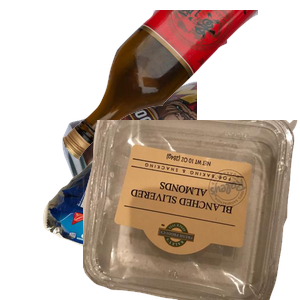glass: (60, 10, 300, 163)
metal: (60, 79, 300, 259)
plastic: (83, 120, 300, 300)
trash: (40, 158, 245, 300)
